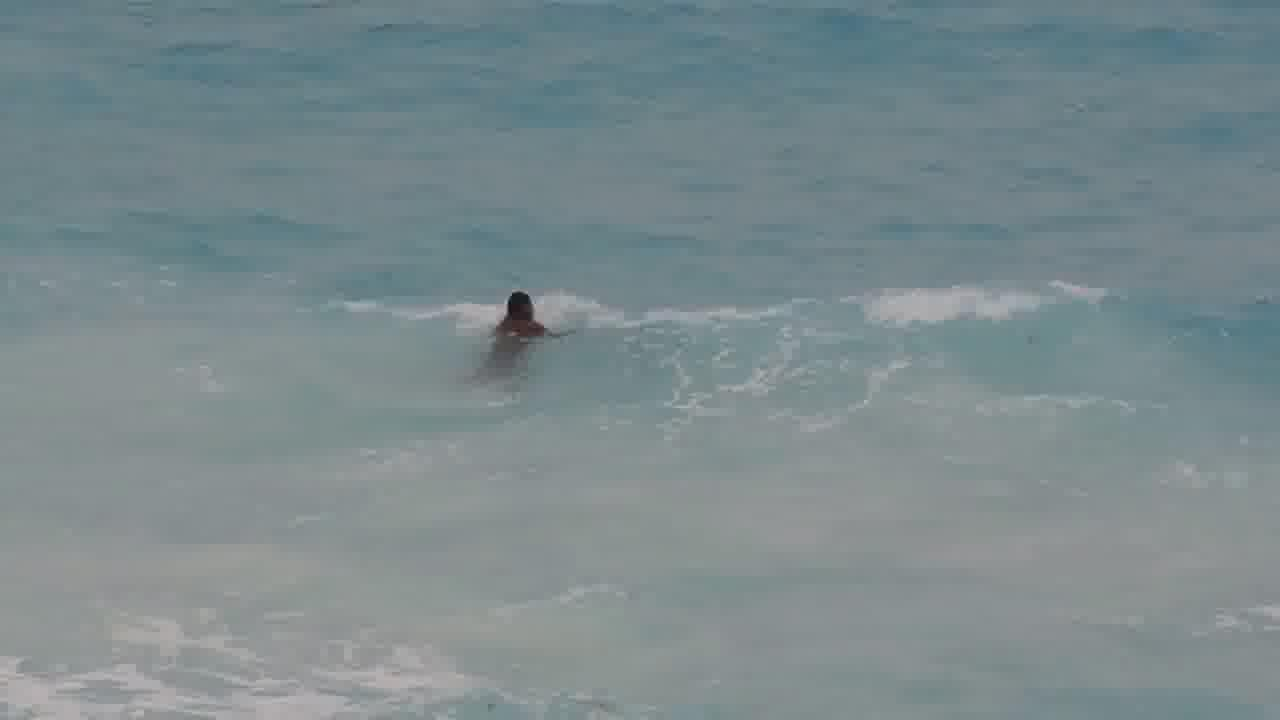swimmer: (474, 287, 573, 355)
